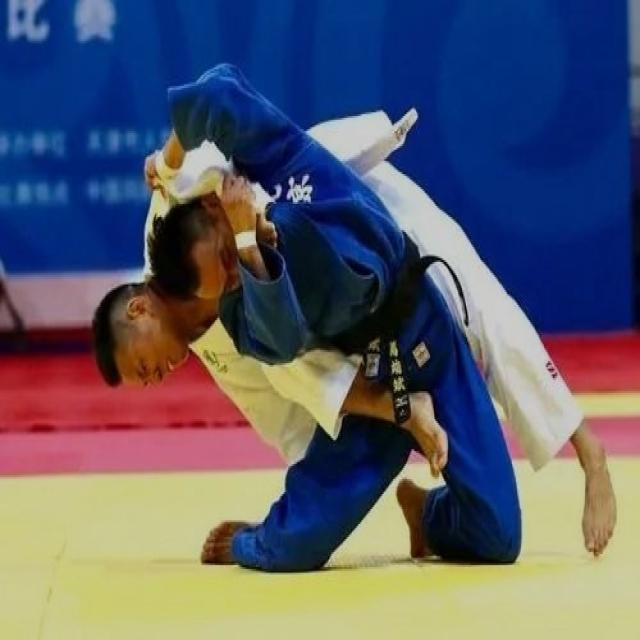fight: (94, 62, 618, 573)
